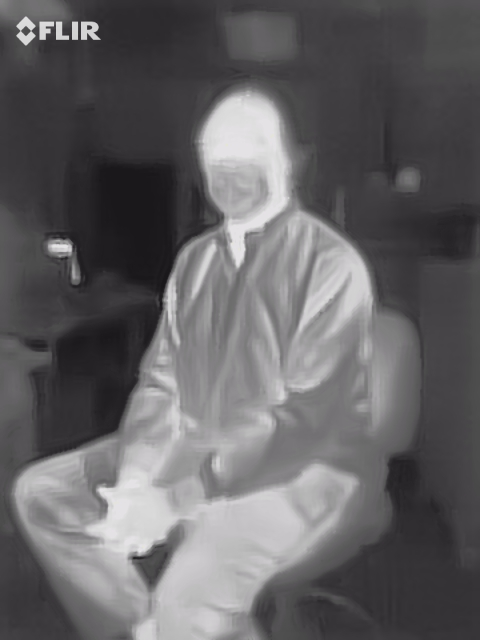head: (193, 80, 314, 224)
